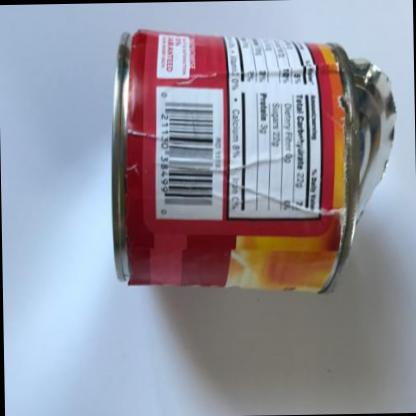Metal: (110, 30, 395, 292)
